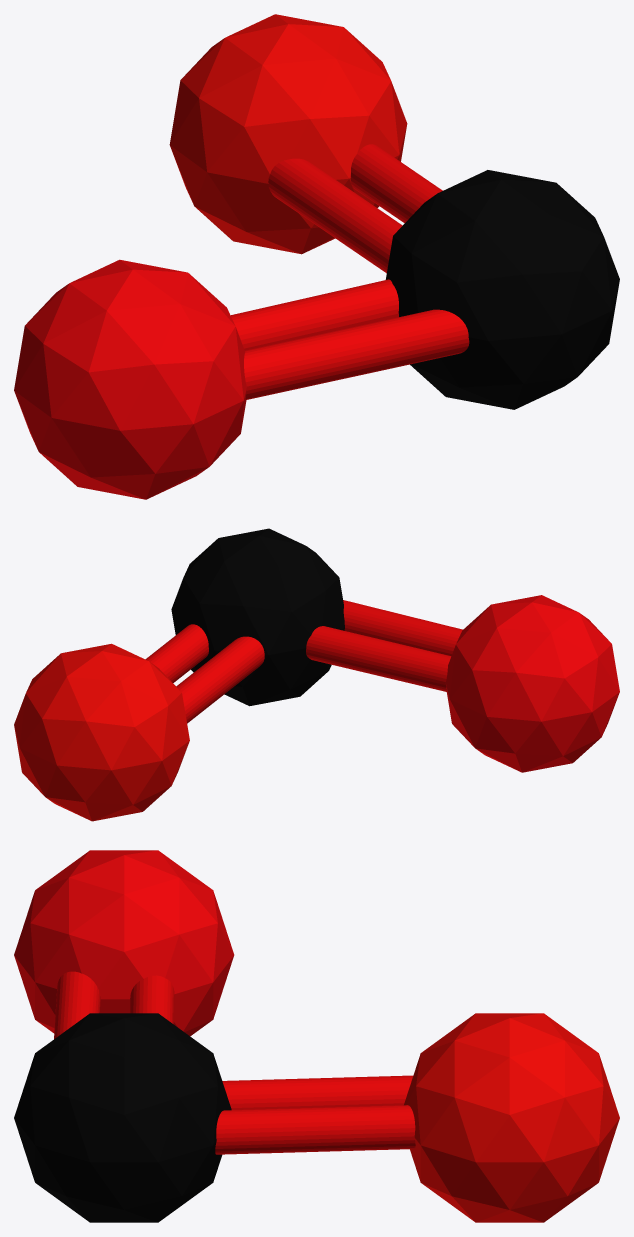
Rendered from carbon.glb.
The picture shows the model from 3 angles, top to bottom: view 1: azimuth 30°, elevation 25°; view 2: azimuth 150°, elevation 25°; view 3: azimuth 270°, elevation 25°; orthographic projection. The views are drawn at different scales.
Visible parts, largest first — view 1: Icosphere.002_4, Icosphere.001_3, Icosphere_2, Cylinder.003_8, Cylinder.001_6, Cylinder.002_7, Cylinder_5; view 2: Icosphere_2, Icosphere.002_4, Icosphere.001_3, Cylinder.002_7, Cylinder.003_8, Cylinder.001_6, Cylinder_5; view 3: Icosphere_2, Icosphere.001_3, Icosphere.002_4, Cylinder_5, Cylinder.001_6, Cylinder.003_8, Cylinder.002_7.
Part boxes in pixels (<box>): Icosphere.002_4: <box>14,259,246,499</box>; Icosphere.001_3: <box>385,170,619,409</box>; Icosphere_2: <box>169,14,407,254</box>; Cylinder.003_8: <box>244,309,469,399</box>; Cylinder.001_6: <box>268,158,402,273</box>; Cylinder.002_7: <box>230,279,398,350</box>; Cylinder_5: <box>351,144,442,223</box>; Icosphere_2: <box>14,643,189,821</box>; Icosphere.002_4: <box>445,595,619,772</box>; Icosphere.001_3: <box>171,528,344,706</box>; Cylinder.002_7: <box>306,626,451,691</box>; Cylinder.003_8: <box>343,600,462,656</box>; Cylinder.001_6: <box>176,636,264,723</box>; Cylinder_5: <box>145,624,208,682</box>; Icosphere_2: <box>404,1013,619,1222</box>; Icosphere.001_3: <box>14,1013,231,1222</box>; Icosphere.002_4: <box>14,850,234,1036</box>; Cylinder_5: <box>215,1105,415,1154</box>; Cylinder.001_6: <box>222,1075,412,1109</box>; Cylinder.003_8: <box>54,971,100,1038</box>; Cylinder.002_7: <box>129,975,174,1023</box>.
Size of the model in its own units: 5.4 by 2 by 5.5.
